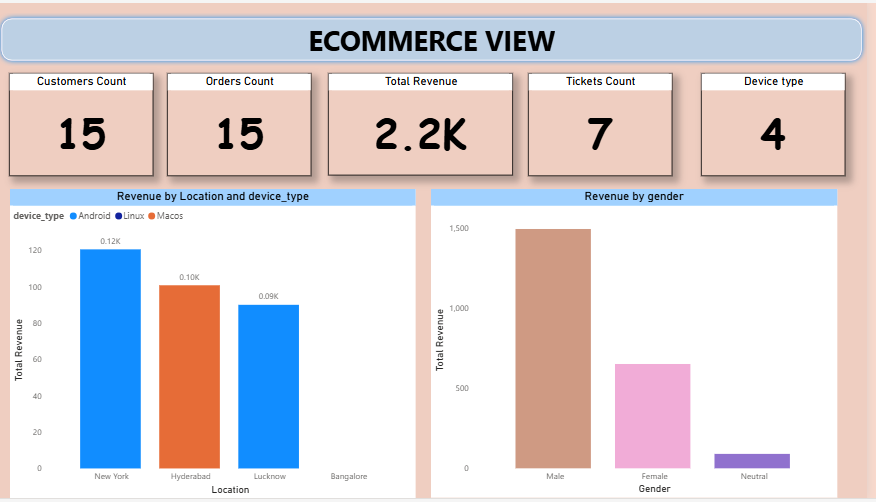

This screenshot's page, from the dashboard's own definition file:
{"tool":"powerbi","page":{"name":"Page 1","canvas":[1280,720],"ordinal":0},"visuals":[{"type":"shape","box":[12.8,14.3,1267.2,77.1],"z":0},{"type":"card","title":"Customers Count ","fields":{"Values":["Count(gold_customers.customer_id)"]},"box":[32.6,102,209.8,150.2],"z":1000},{"type":"card","title":"Orders Count ","fields":{"Values":["Count(gold_customers.order_id)"]},"box":[262.2,102,209.8,150.2],"z":2000},{"type":"card","title":"Total Revenue","fields":{"Values":["Sum(gold_customers.order_amount)"]},"box":[496.1,102,269.3,148.8],"z":3000},{"type":"card","title":"Tickets Count ","fields":{"Values":["Count(gold_customers.ticket_id)"]},"box":[786.2,101.8,209.8,149.8],"z":4000},{"type":"card","title":"Device type ","fields":{"Values":["Count(gold_customers.device_type)"]},"box":[1038.8,101.3,209.8,149.8],"z":5000},{"type":"columnChart","title":"Revenue by Location and device_type","fields":{"Category":["gold_customers.Location"],"Y":["Sum(gold_customers.order_amount)"],"Series":["gold_customers.device_type"]},"box":[33.2,270.2,590.2,449.8],"z":6000},{"type":"columnChart","title":"Revenue by gender ","fields":{"Category":["gold_customers.Gender"],"Y":["Sum(gold_customers.order_amount)"]},"box":[646.3,270.7,591,449.3],"z":7000}]}

Visuals, with their boxes in screenshot pixels (x1, y1, x2, y2), scaled from the page's 1280x720 canvas onto the 876x502 screenshot:
shape: (9, 10, 875, 64)
"Customers Count " card: (22, 71, 166, 176)
"Orders Count " card: (179, 71, 323, 176)
"Total Revenue" card: (340, 71, 524, 175)
"Tickets Count " card: (538, 71, 682, 175)
"Device type " card: (711, 71, 855, 175)
"Revenue by Location and device_type" columnChart: (23, 188, 427, 501)
"Revenue by gender " columnChart: (442, 189, 847, 501)
